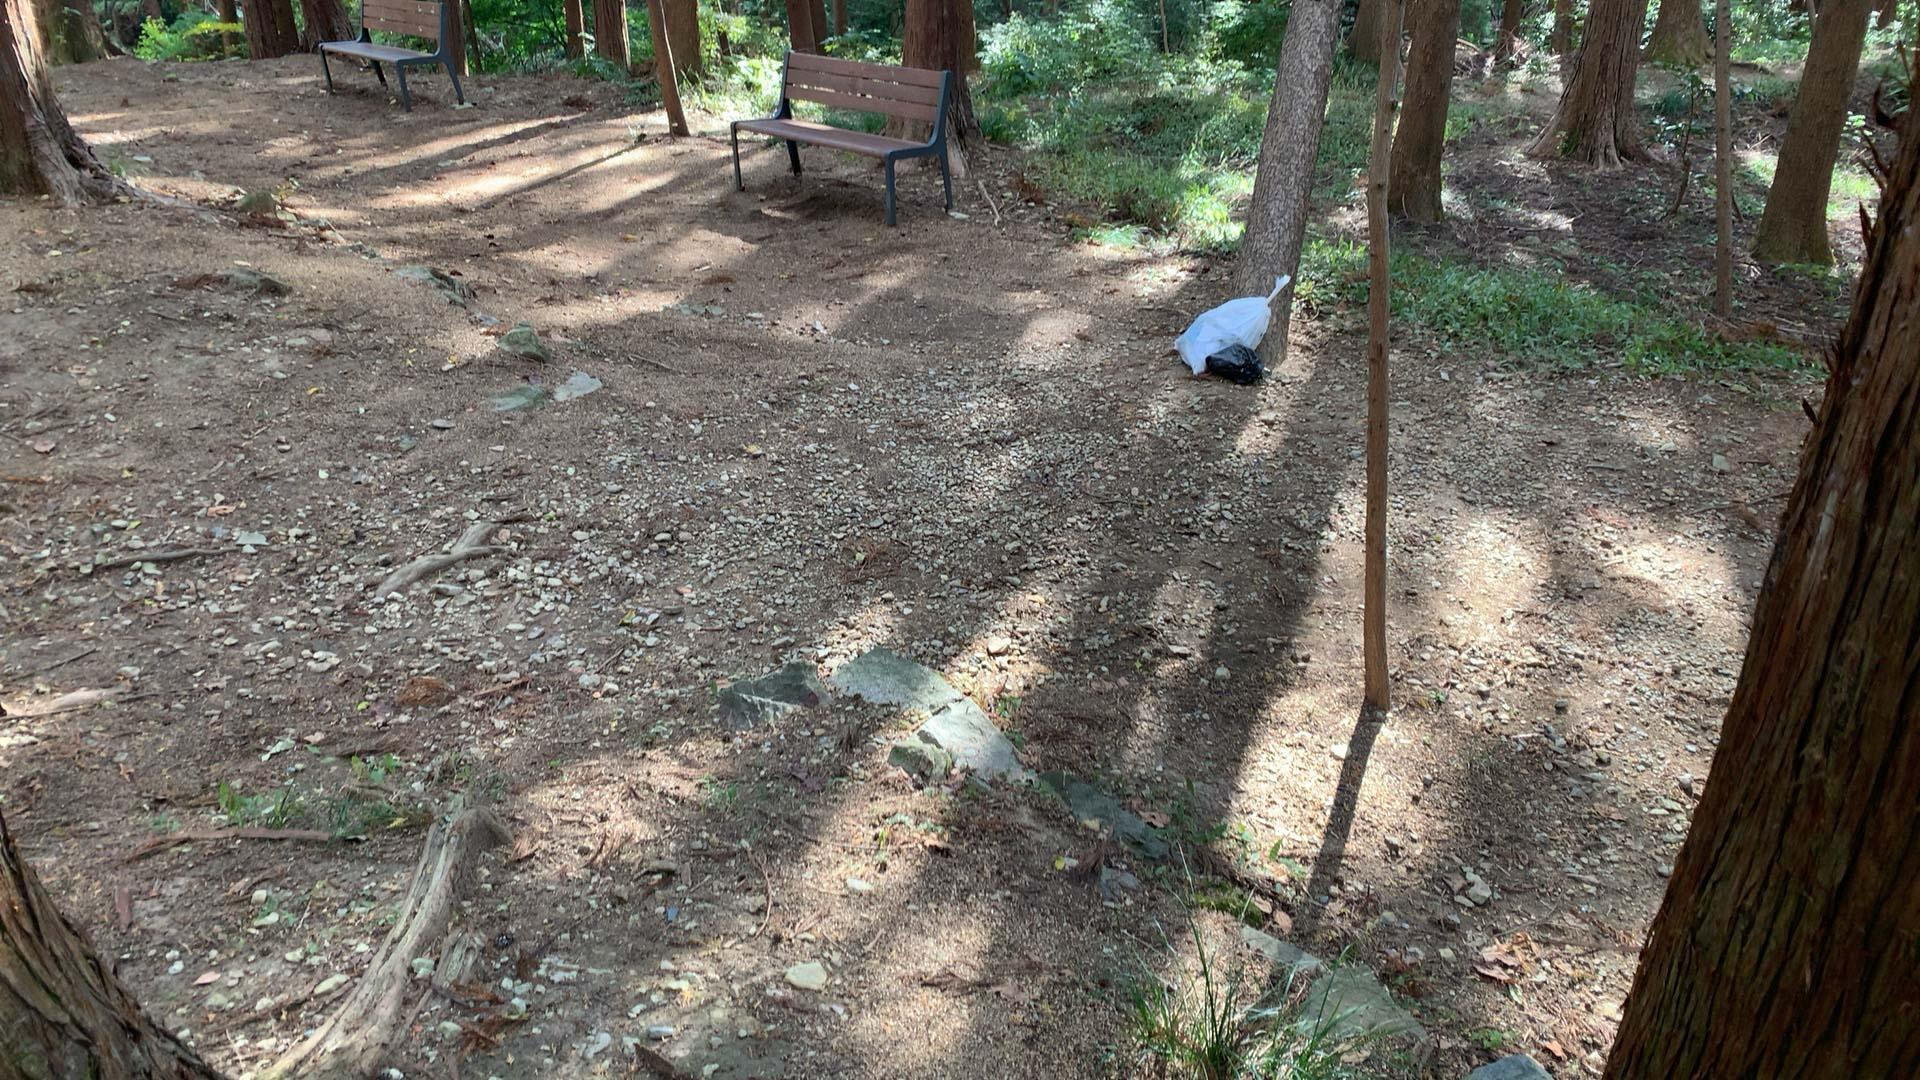black_bag: (1203, 342, 1269, 385)
white_bag: (1168, 269, 1290, 378)
